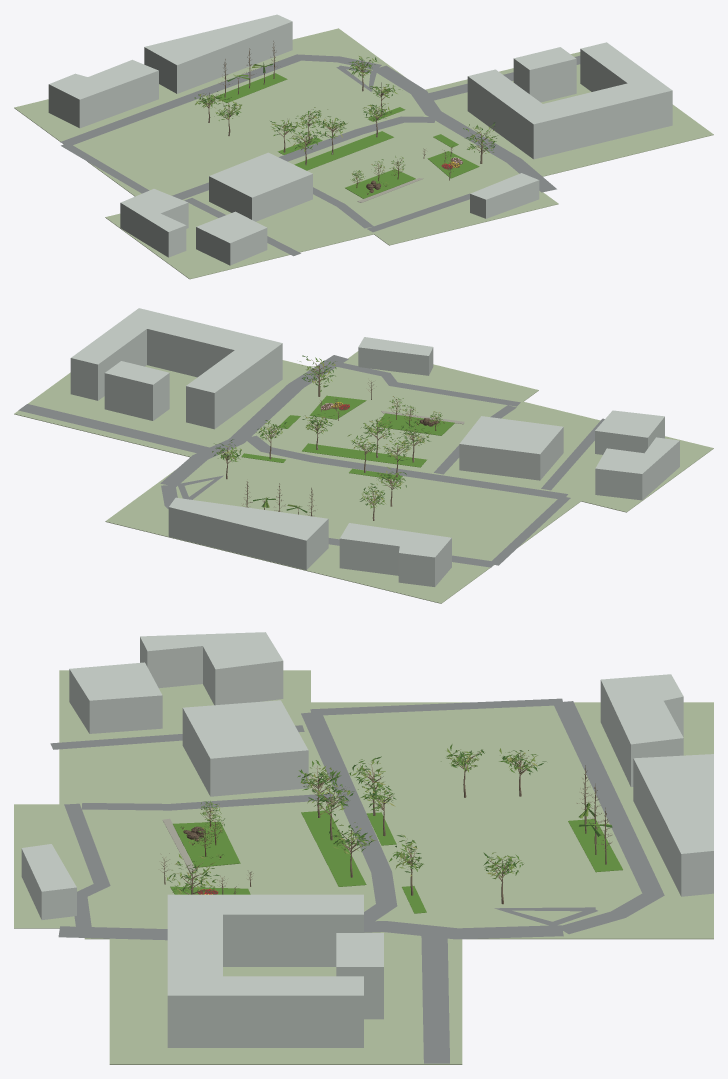
Rendered from landscape-far.glb.
The picture shows the model from 3 angles, top to bottom: view 1: azimuth 30°, elevation 25°; view 2: azimuth 150°, elevation 25°; view 3: azimuth 270°, elevation 25°; orthographic projection. The views are drawn at different scales.
Visible parts, largest first — view 1: ground 地图绿地, 56 邻楼简模, detail 沥青道路, 45 邻楼简模, 44 邻楼简模, 50 邻楼简模, garden 庭院草坪, 47 邻楼简模, 48 邻楼简模, 52 邻楼简模, detail 周边树干褐灰, detail 周边Tree叶片1 (+2 smaller); view 2: ground 地图绿地, 56 邻楼简模, detail 沥青道路, 45 邻楼简模, 50 邻楼简模, 44 邻楼简模, 47 邻楼简模, garden 庭院草坪, 48 邻楼简模, 52 邻楼简模, detail 周边树干褐灰, detail 周边Tree叶片1 (+2 smaller); view 3: ground 地图绿地, 56 邻楼简模, detail 沥青道路, 50 邻楼简模, 45 邻楼简模, 47 邻楼简模, garden 庭院草坪, 44 邻楼简模, 48 邻楼简模, 52 邻楼简模, detail 周边树干褐灰, detail 周边Tree叶片1 (+2 smaller).
Boxes of the visible parts, bbox=[...] form: ground 地图绿地: bbox=[14, 28, 713, 279]; 56 邻楼简模: bbox=[467, 42, 672, 159]; detail 沥青道路: bbox=[60, 54, 580, 256]; 45 邻楼简模: bbox=[144, 14, 292, 93]; 44 邻楼简模: bbox=[48, 59, 158, 128]; 50 邻楼简模: bbox=[209, 152, 312, 221]; garden 庭院草坪: bbox=[215, 73, 479, 198]; 47 邻楼简模: bbox=[120, 189, 188, 257]; 48 邻楼简模: bbox=[196, 211, 267, 265]; 52 邻楼简模: bbox=[470, 173, 539, 218]; detail 周边树干褐灰: bbox=[201, 41, 491, 180]; detail 周边Tree叶片1: bbox=[194, 57, 497, 152]; ground 地图绿地: bbox=[14, 351, 713, 603]; 56 邻楼简模: bbox=[70, 308, 282, 429]; detail 沥青道路: bbox=[18, 355, 604, 567]; 45 邻楼简模: bbox=[168, 497, 328, 570]; 50 邻楼简模: bbox=[459, 416, 563, 480]; 44 邻楼简模: bbox=[339, 523, 451, 586]; 47 邻楼简模: bbox=[595, 437, 679, 500]; garden 庭院草坪: bbox=[241, 395, 454, 480]; 48 邻楼简模: bbox=[595, 410, 664, 454]; 52 邻楼简模: bbox=[358, 337, 433, 375]; detail 周边树干褐灰: bbox=[218, 359, 424, 520]; detail 周边Tree叶片1: bbox=[212, 357, 429, 508]; ground 地图绿地: bbox=[14, 670, 713, 1064]; 56 邻楼简模: bbox=[167, 894, 383, 1047]; detail 沥青道路: bbox=[50, 698, 664, 1063]; 50 邻楼简模: bbox=[182, 700, 308, 796]; 45 邻楼简模: bbox=[633, 754, 713, 896]; 47 邻楼简模: bbox=[140, 632, 283, 705]; garden 庭院草坪: bbox=[170, 810, 622, 913]; 44 邻楼简模: bbox=[600, 674, 683, 786]; 48 邻楼简模: bbox=[69, 662, 162, 733]; 52 邻楼简模: bbox=[21, 844, 76, 919]; detail 周边树干褐灰: bbox=[160, 752, 612, 904]; detail 周边Tree叶片1: bbox=[165, 744, 611, 893].
Size of the model in its own units: 178 by 13.18 by 133.
